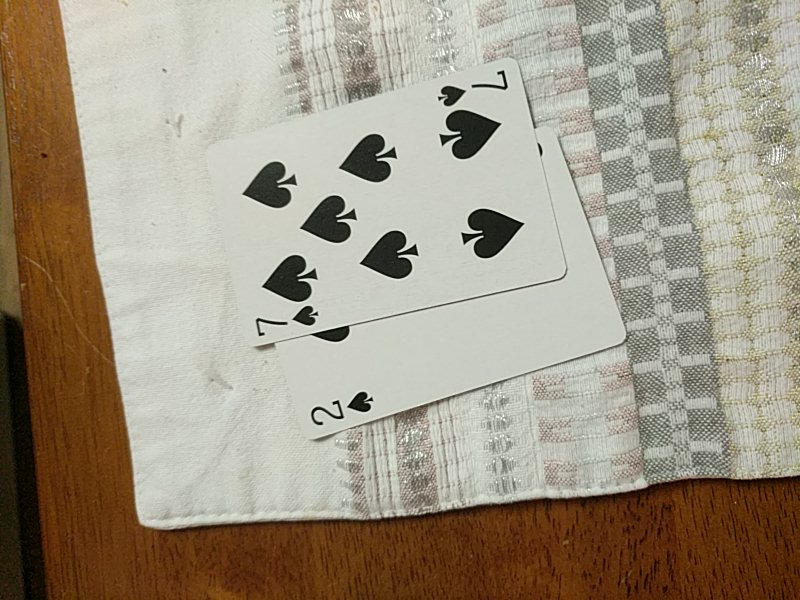Spades: (203, 59, 571, 352), (279, 272, 630, 440)
